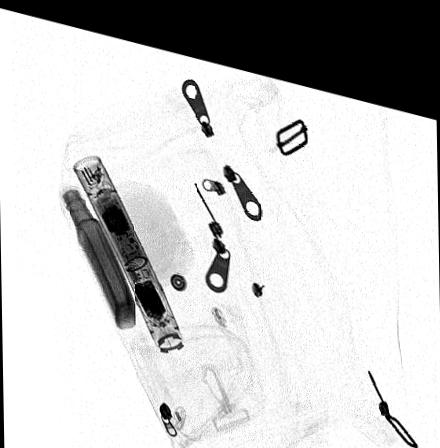Baton: (70, 149, 183, 344)
